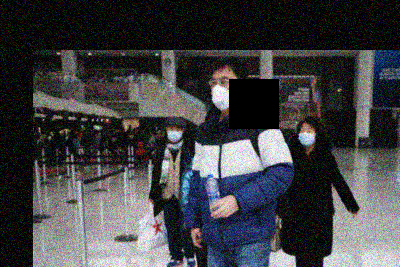with_mask: (207, 74, 238, 112), (296, 123, 315, 149), (164, 125, 181, 144)
